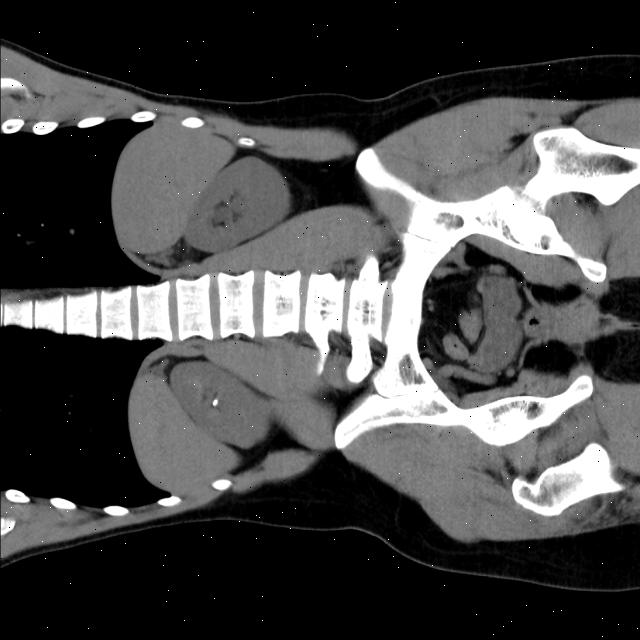kidneystone: (212, 398, 218, 405)
